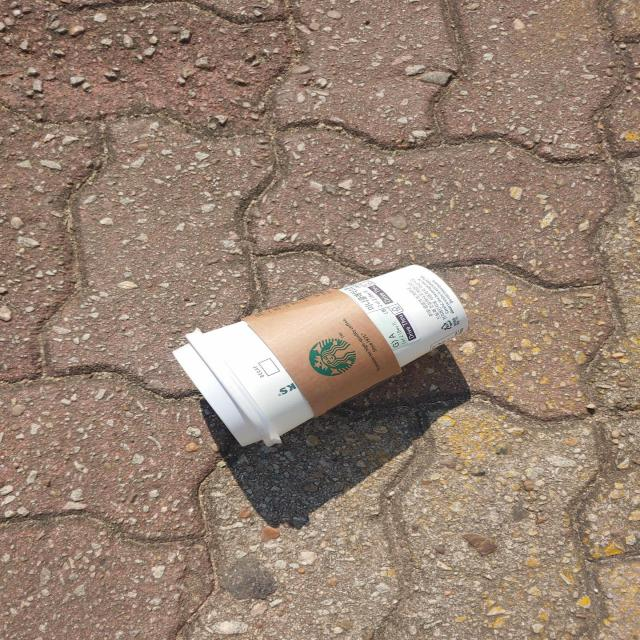paperpack: (172, 265, 468, 447)
